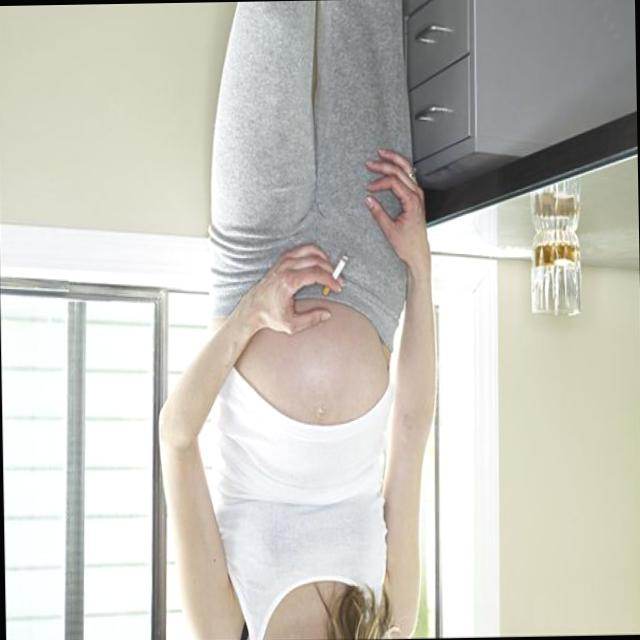smoke: (324, 250, 349, 298)
